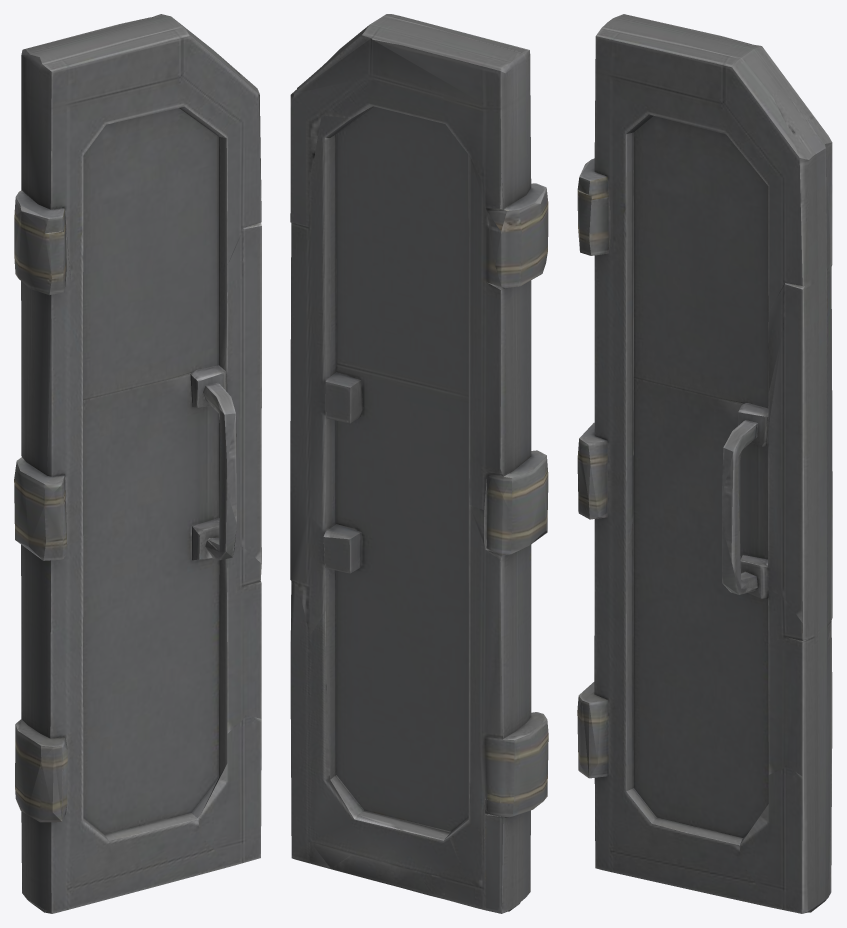
Rendered from imperial_alloy_foundry__entrance_door_leaf_lod1.glb.
3 renders of one model, left to right at view 1: azimuth 30°, elevation 25°; view 2: azimuth 150°, elevation 25°; view 3: azimuth 330°, elevation 25°, orthographic.
Parts seen in each view (by area): view 1: mesh_node; view 2: mesh_node; view 3: mesh_node.
Part boxes in pixels (left/top/right/bottom): mesh_node: left=14, top=14, right=261, bottom=913; mesh_node: left=290, top=14, right=548, bottom=913; mesh_node: left=577, top=14, right=832, bottom=913.
Bounding box in the file's own units: 0.8063 × 2.8 × 0.3344.
1 material, 1 textured.
